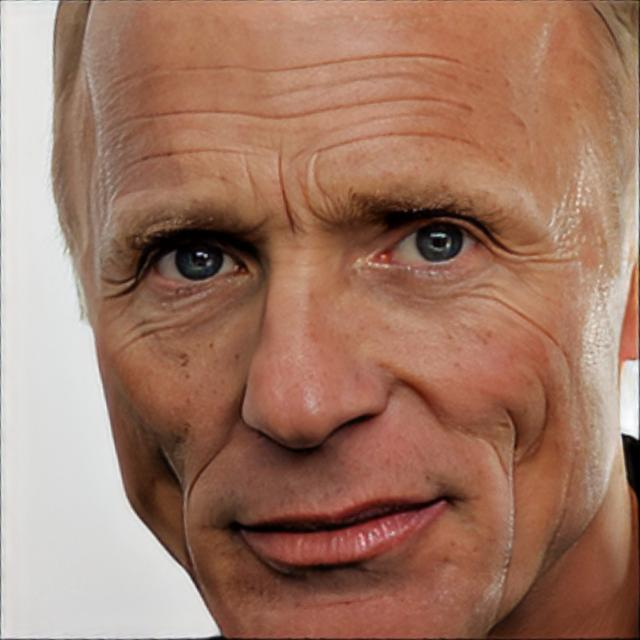content: (78, 7, 636, 639)
